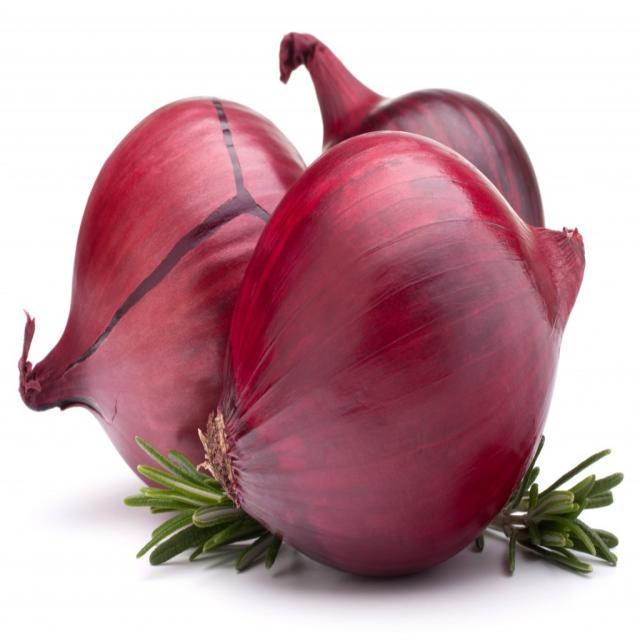onion: (198, 128, 585, 580), (18, 95, 310, 493)
